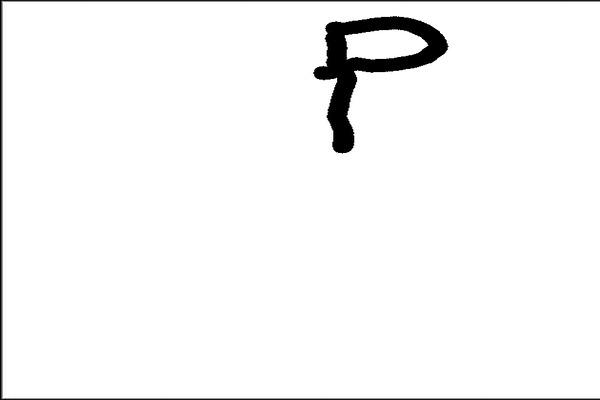P: (312, 11, 451, 158)
